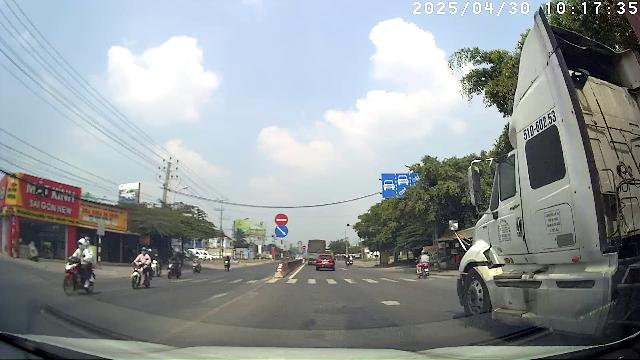102-cam-di-nguoc-chieu: (276, 214, 288, 224)
302a-huong-phai-di-vong-chuong-ngai-vat-1: (276, 225, 288, 237)
